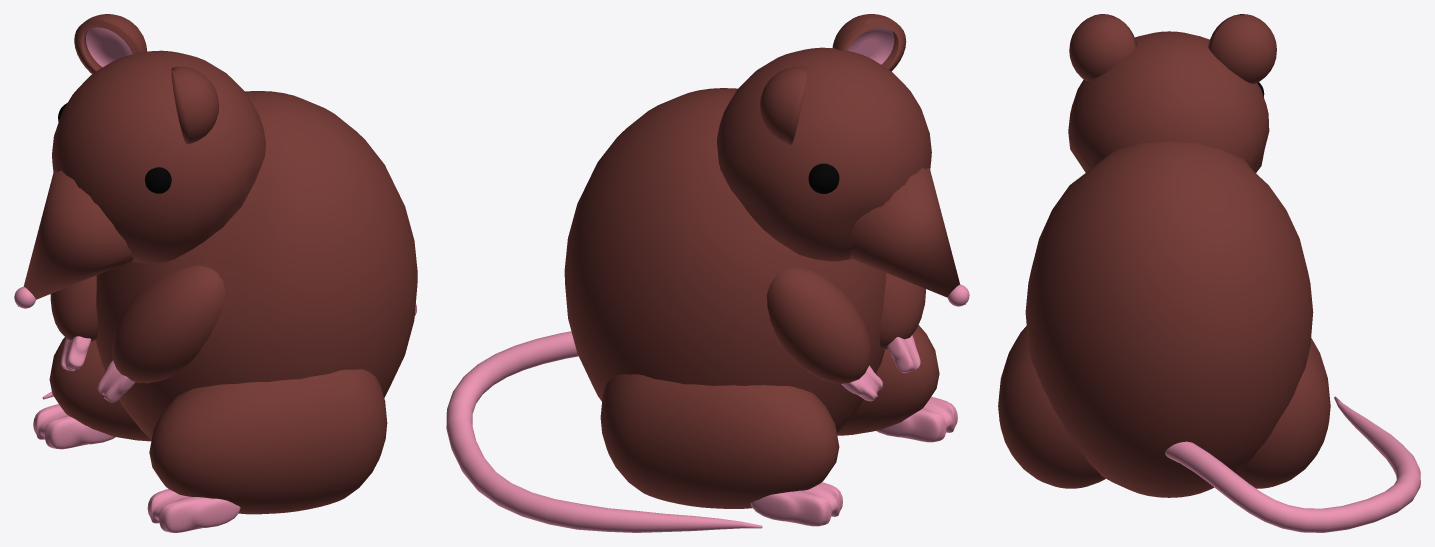
File: rat - joined brown.fbx
The picture shows the model from 3 angles, left to right: view 1: azimuth 30°, elevation 25°; view 2: azimuth 150°, elevation 25°; view 3: azimuth 270°, elevation 25°; orthographic projection. The views are drawn at different scales.
Parts seen in each view (by area): view 1: rat brown; view 2: rat brown; view 3: rat brown.
Part boxes in pixels (bbox=[...]): rat brown: bbox=[14, 14, 417, 532]; rat brown: bbox=[446, 14, 969, 532]; rat brown: bbox=[998, 14, 1420, 532].
Size of the model in its own units: 338 by 322 by 294.
